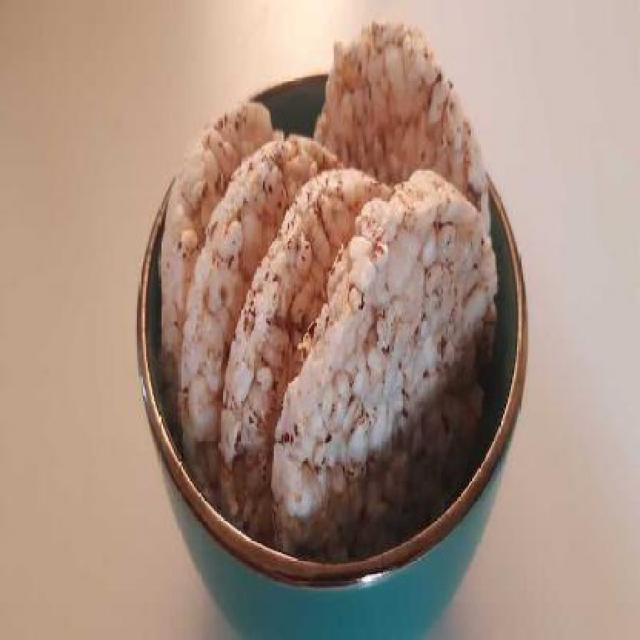Gallette di riso packaged: (156, 22, 504, 544)
